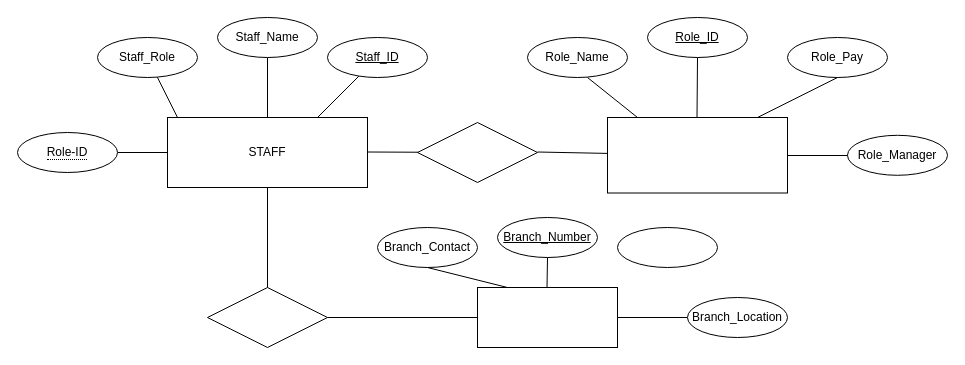
This 965x365 diagram has some shape labels left out. Each missing label, with the centre of its shape:
BRANCH: point (547, 317)
Branch_Manager: point (667, 247)
Hold: point (477, 152)
ROLE: point (697, 154)
Works: point (267, 317)
